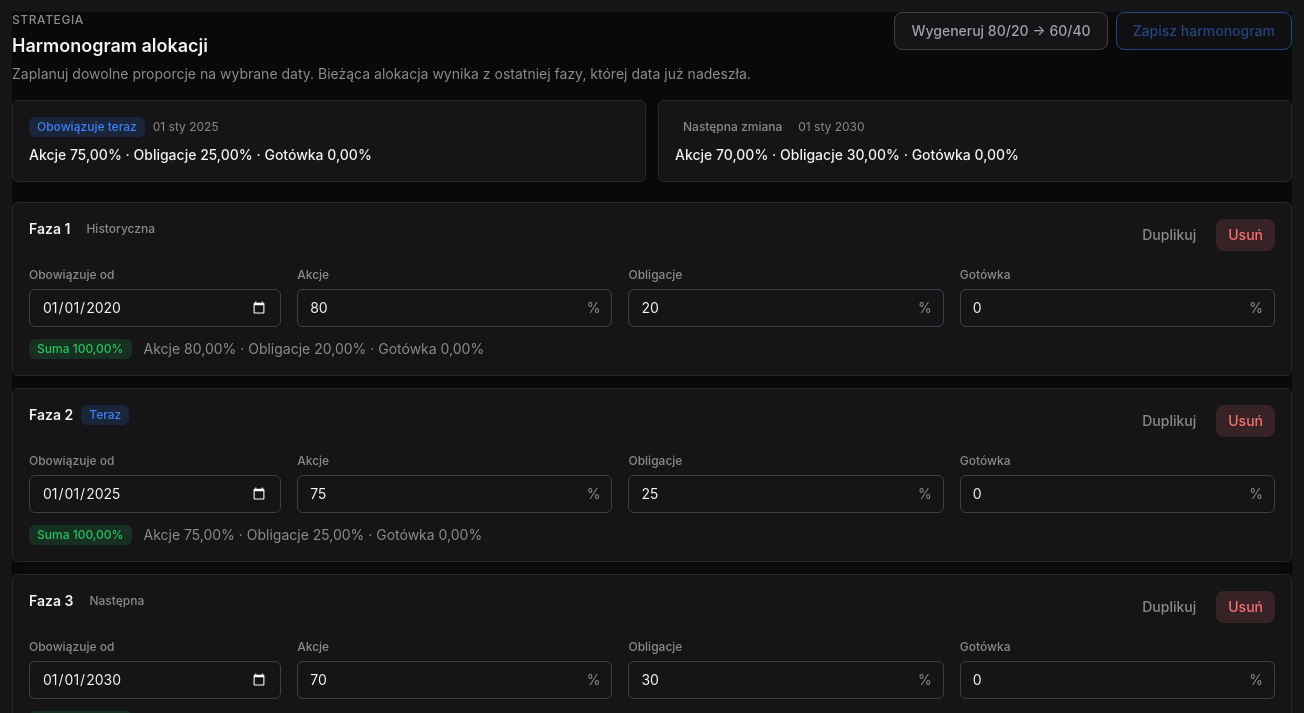
Scenario: PortfolioTargetScheduleEditor › rejects a mix that no longer totals 100 percent after API precision rounding
The width and height of the screenshot is (1304, 713).
Replace the text in the field labelled "Akcje %" below "Historyczna" with "33.33334" at (455, 308), box [297,289,612,327]
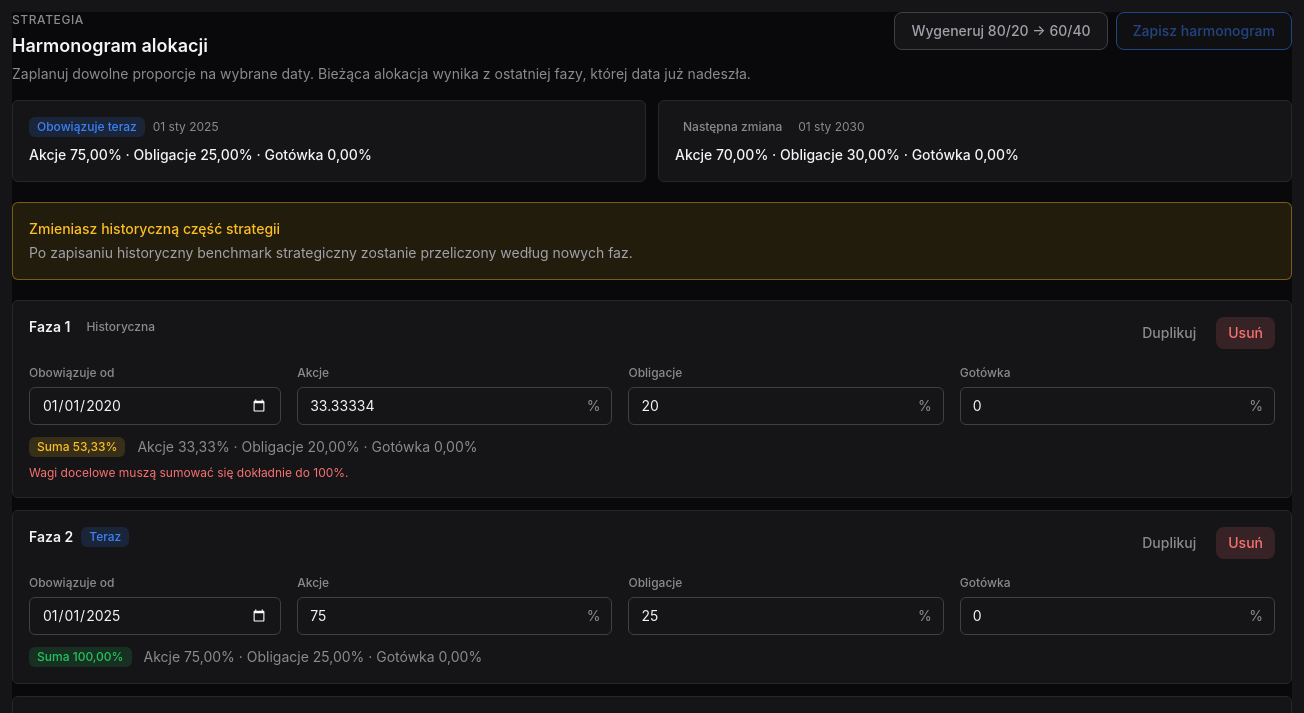
Replace the text in the 1st field labelled "Obligacje %" with "33.33333" at (786, 406), box [628,387,944,425]
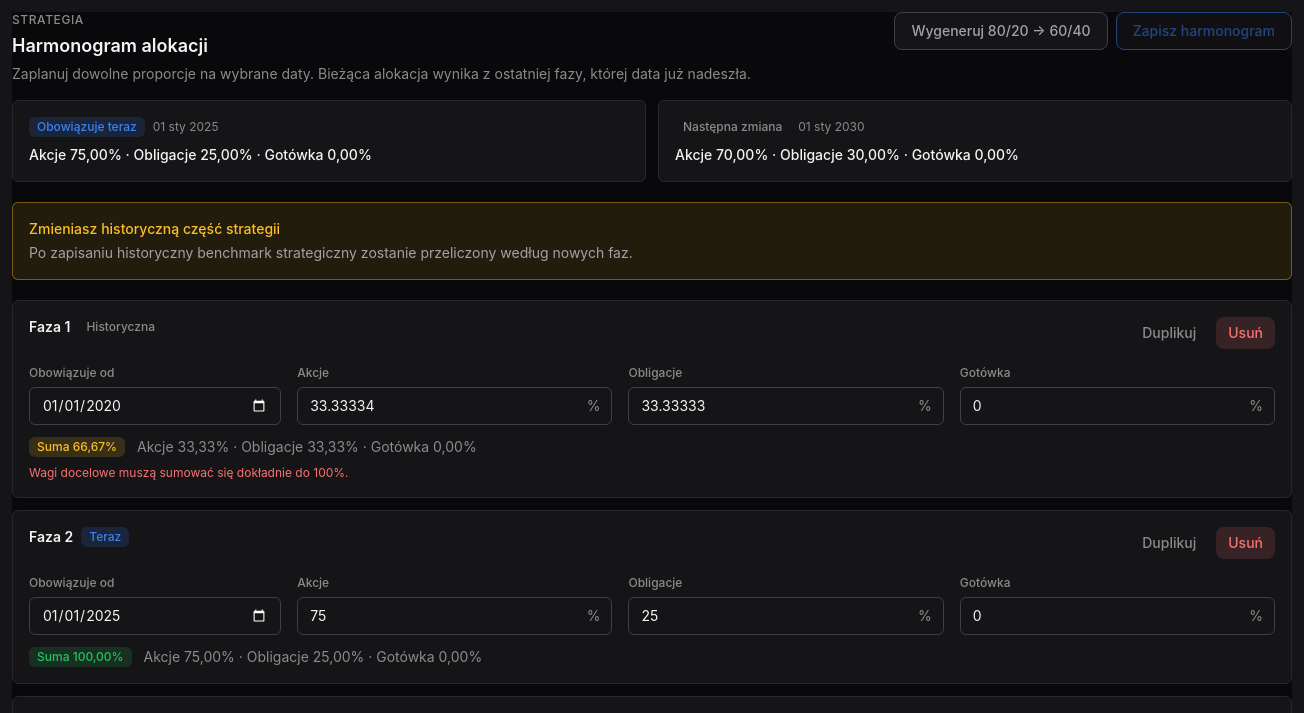
Replace the text in the 1st field labelled "Gotówka %" with "33.33333" at (1117, 406), box [960,387,1275,425]
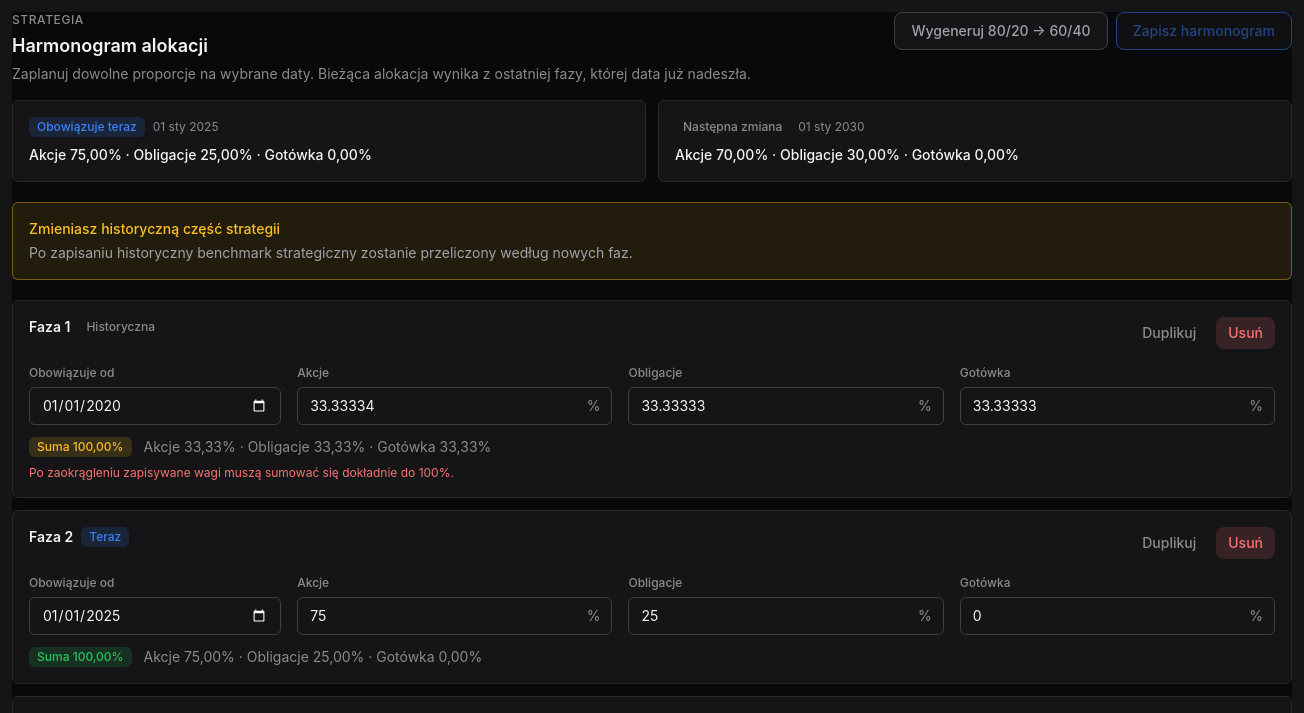
Expected: the button "Zapisz harmonogram" is disabled, [1116,12,1292,50]
Expected: the text "Po zaokrągleniu zapisywane wagi muszą sumować się dokładnie do 100%." is shown, [29,465,454,480]
